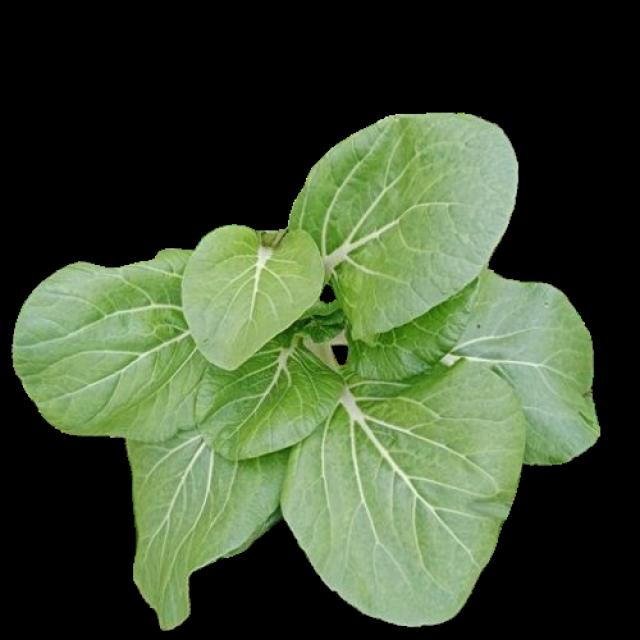healthy: (10, 111, 594, 622)
mature: (13, 114, 596, 625)
